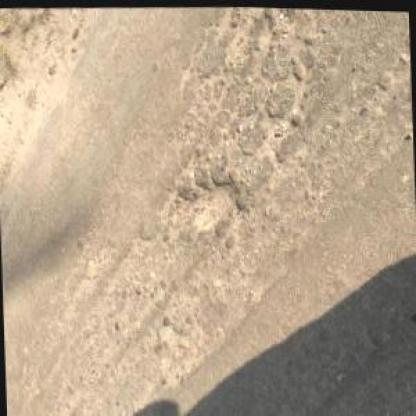pothole: (180, 173, 243, 229)
